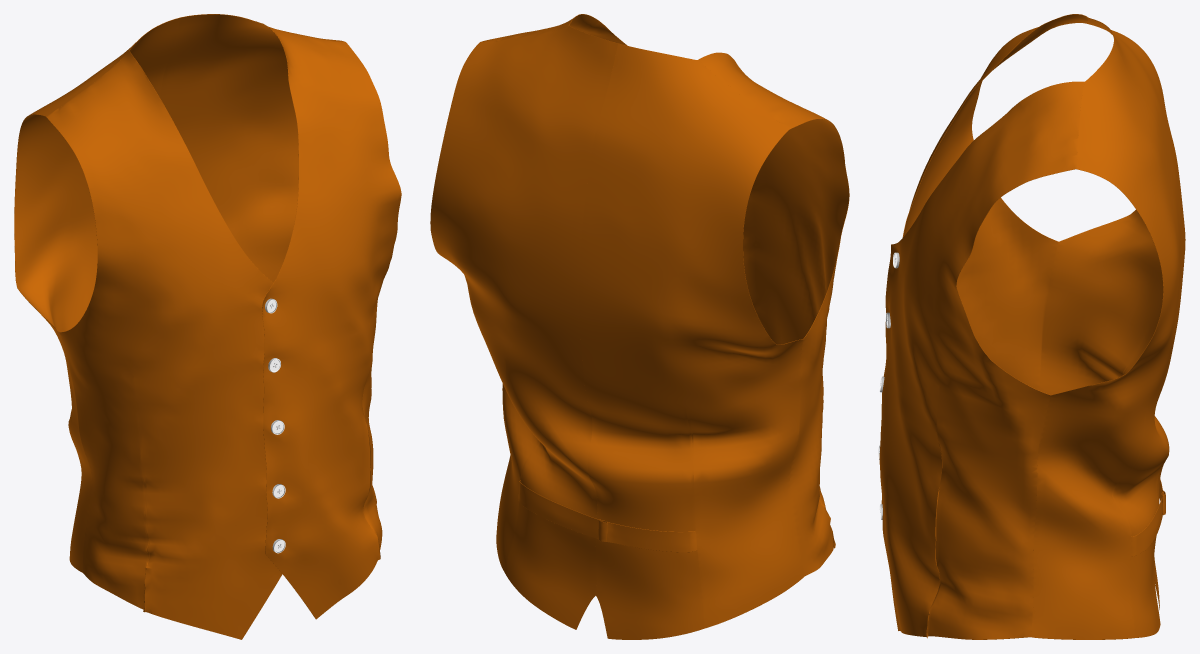
Rendered from test_waistcoat.fbx.
The picture shows the model from 3 angles, left to right: view 1: azimuth 30°, elevation 25°; view 2: azimuth 150°, elevation 25°; view 3: azimuth 270°, elevation 25°; orthographic projection. The views are drawn at different scales.
Parts seen in each view (by area): view 1: test_waistcoat; view 2: test_waistcoat; view 3: test_waistcoat.
Part boxes in pixels (<box>): test_waistcoat: <box>14,14,401,639</box>; test_waistcoat: <box>430,14,849,639</box>; test_waistcoat: <box>878,14,1185,639</box>.
Size of the model in its own units: 377 by 608 by 294.
